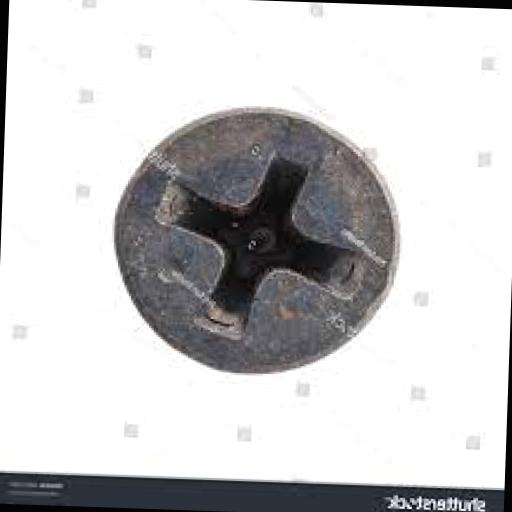Phillips: (107, 98, 404, 380)
